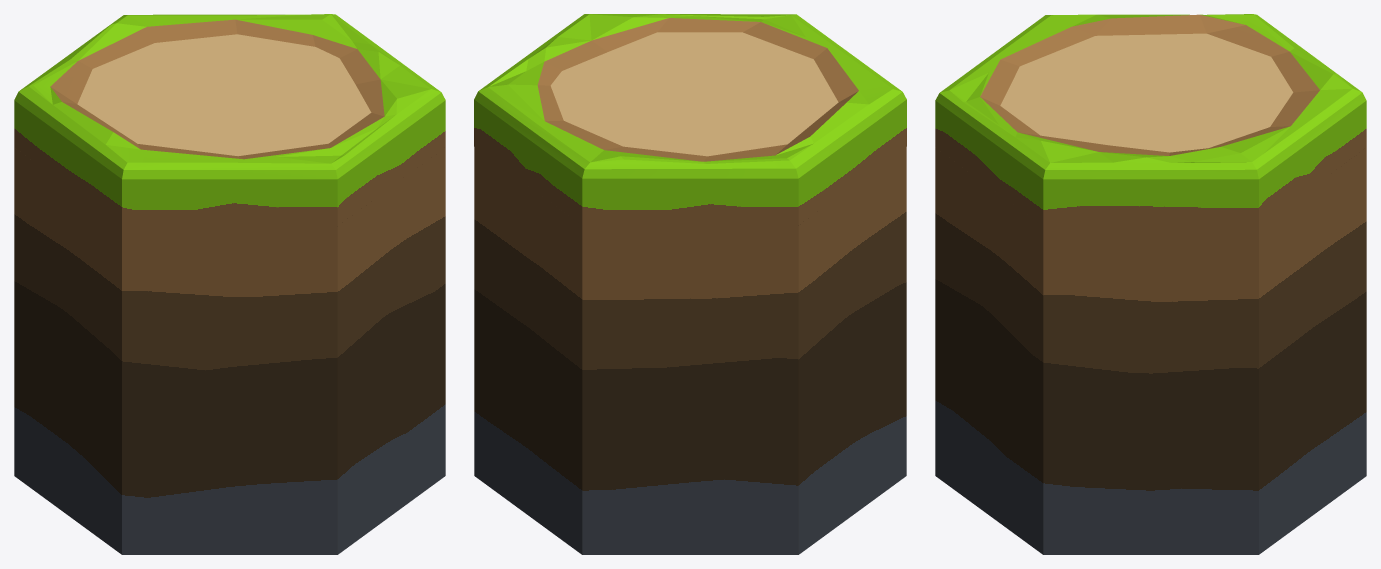
The model's file is HexTilePath_NoConnection.glb.
The picture shows the model from 3 angles, left to right: view 1: azimuth 30°, elevation 25°; view 2: azimuth 150°, elevation 25°; view 3: azimuth 270°, elevation 25°; orthographic projection.
Visible parts, largest first — view 1: HexTilePath_NoConnection; view 2: HexTilePath_NoConnection; view 3: HexTilePath_NoConnection.
Boxes of the visible parts, x1,y1,x2,y2 form: HexTilePath_NoConnection: (14, 14, 445, 554); HexTilePath_NoConnection: (474, 14, 906, 554); HexTilePath_NoConnection: (935, 14, 1366, 554).
Size of the model in its own units: 1.73 by 2 by 2.
1 material, 1 textured.
